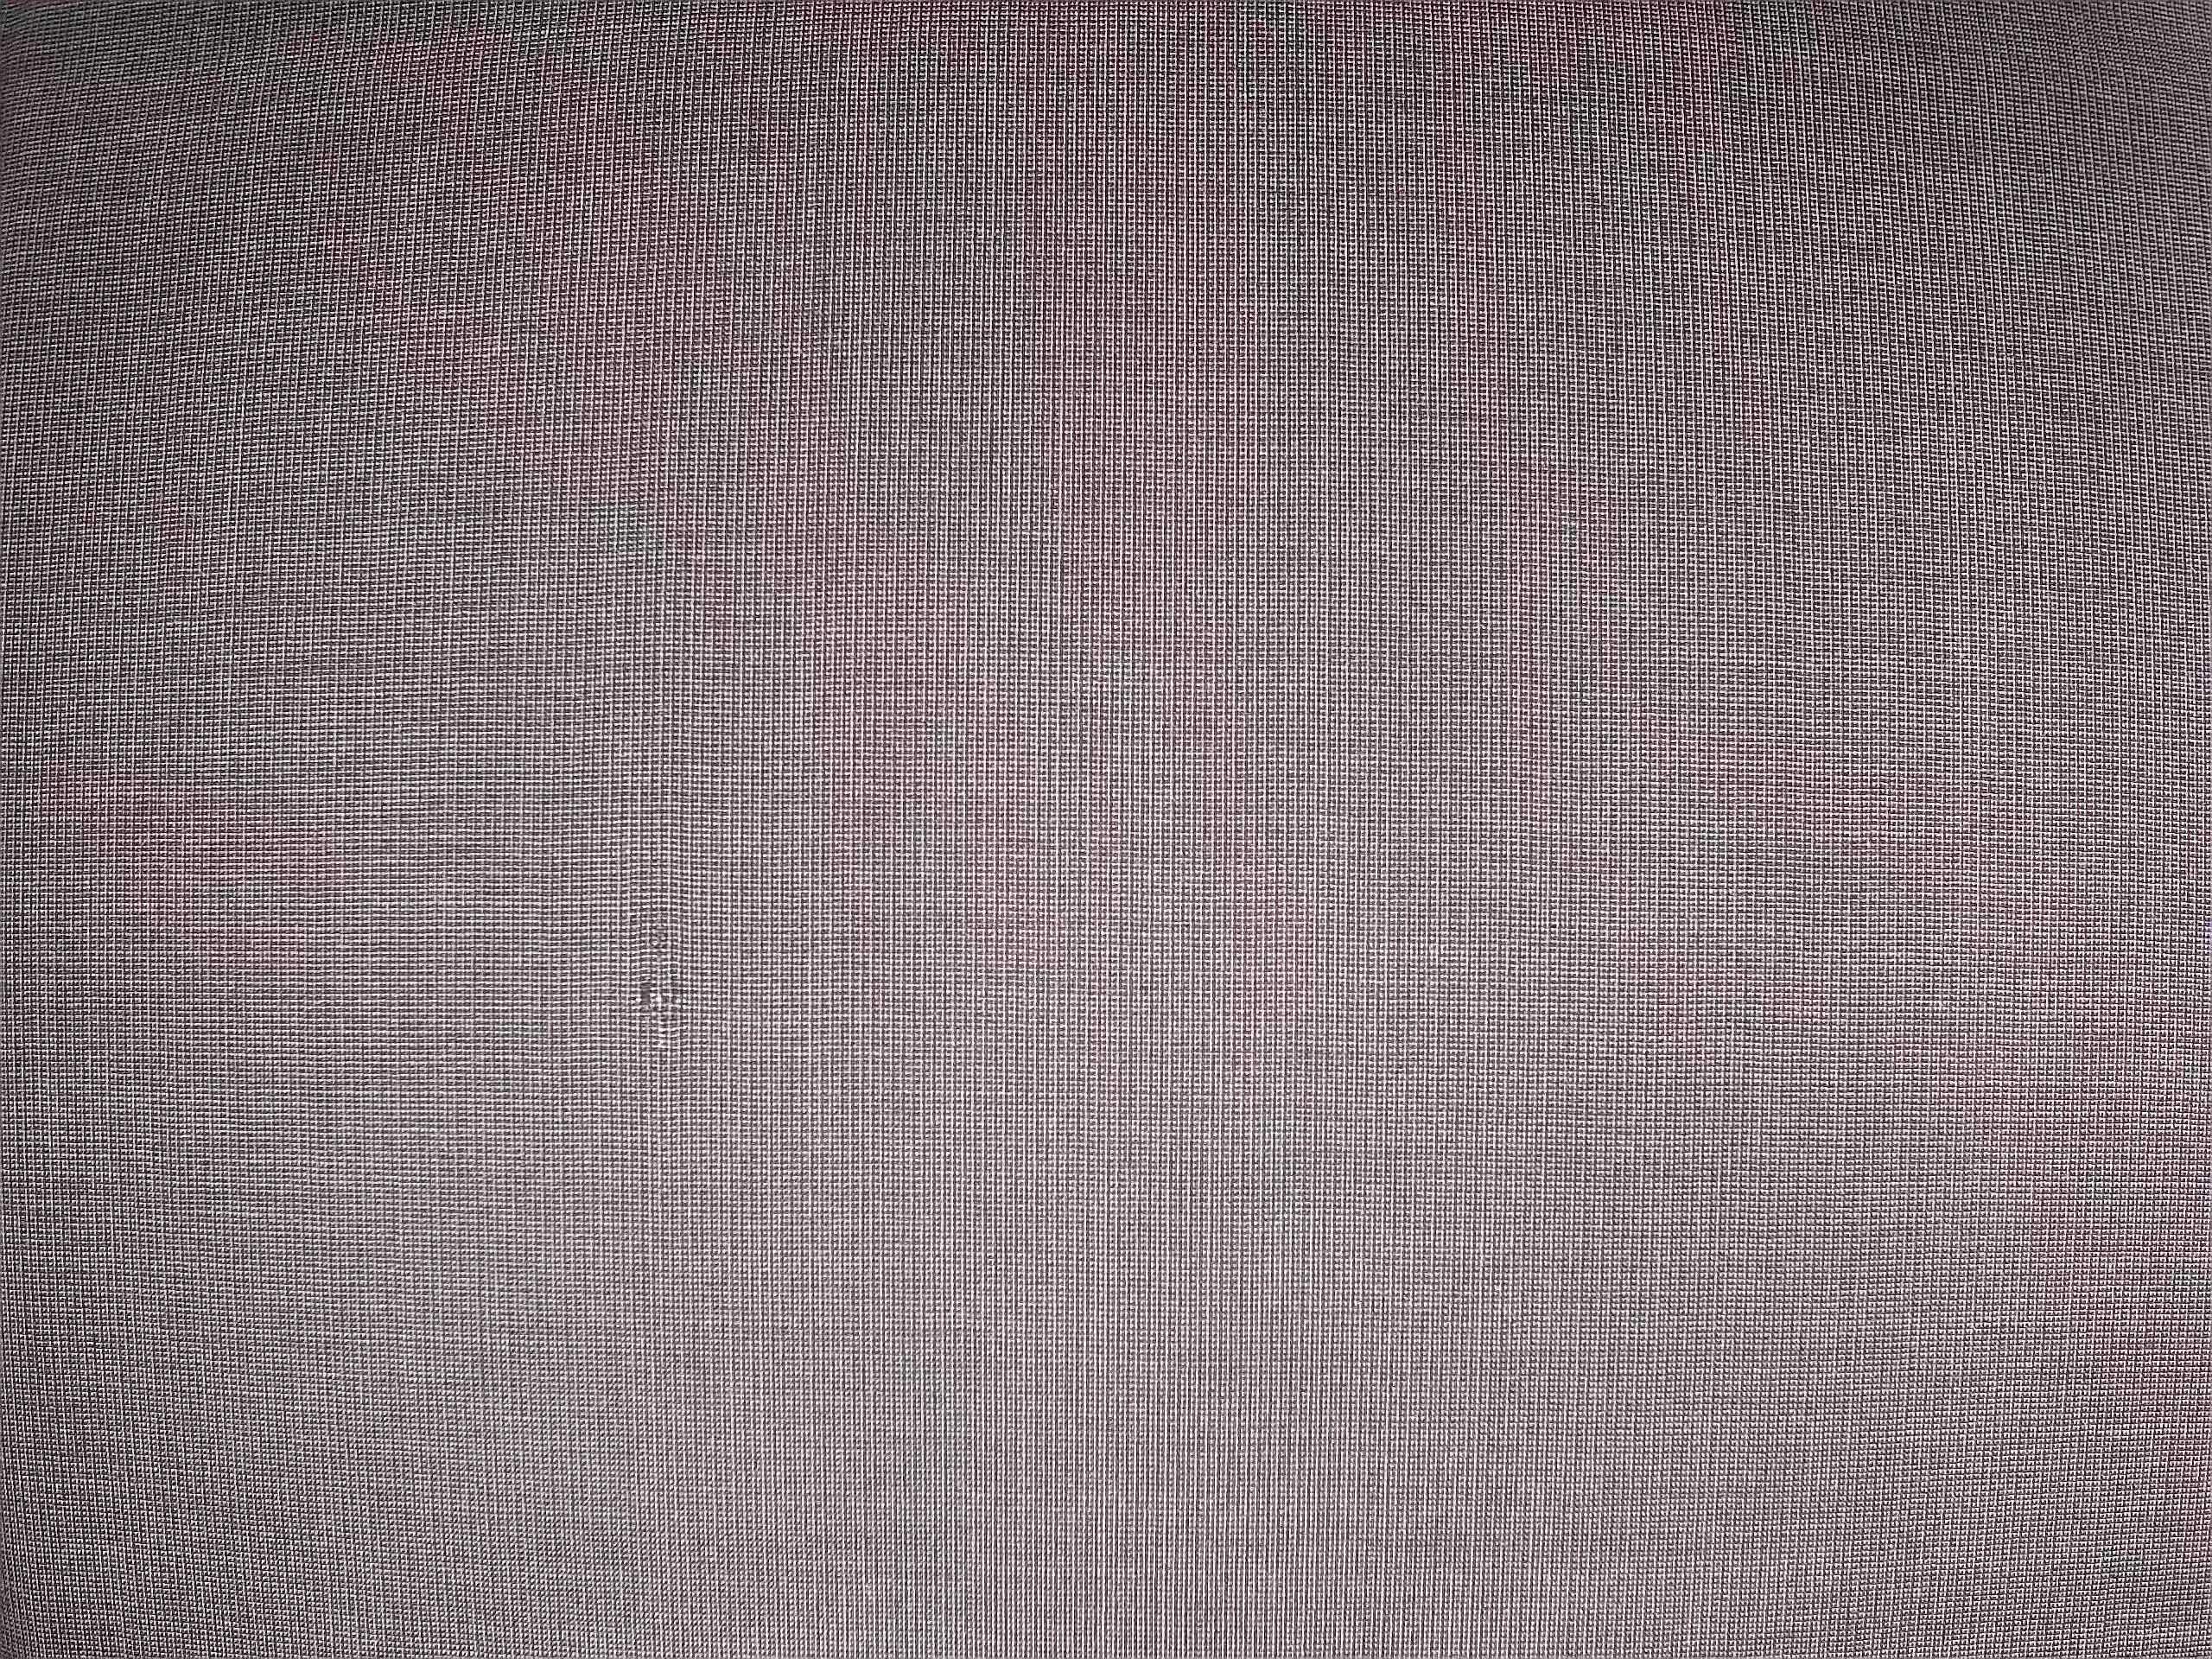knots: (617, 950, 711, 1070)
